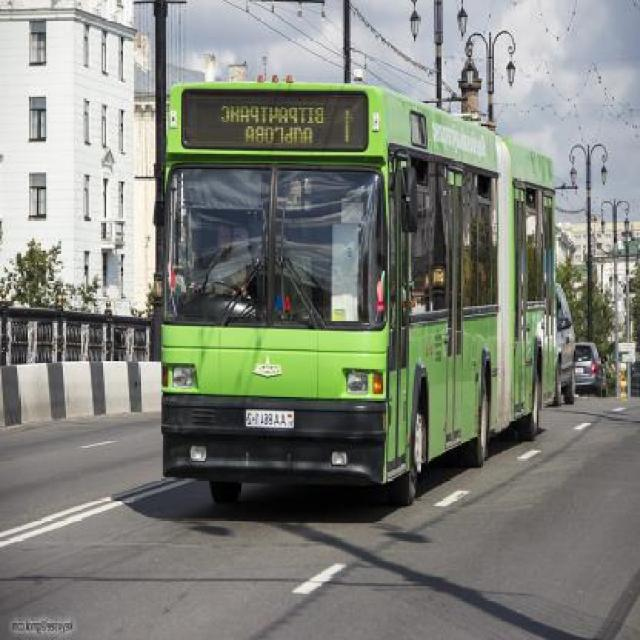bus: (160, 82, 552, 509)
